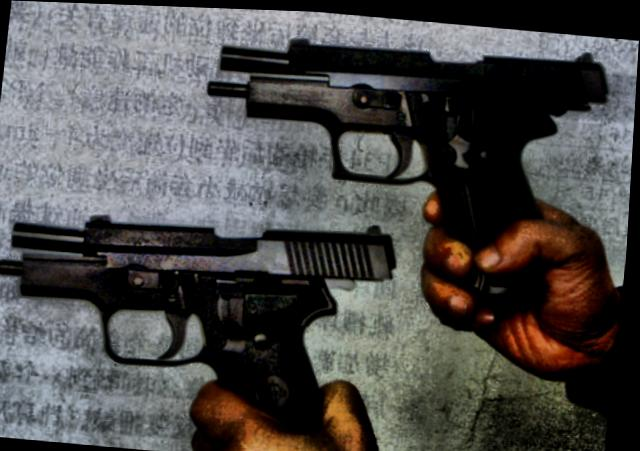pistol: (189, 16, 617, 312), (0, 190, 404, 442)
